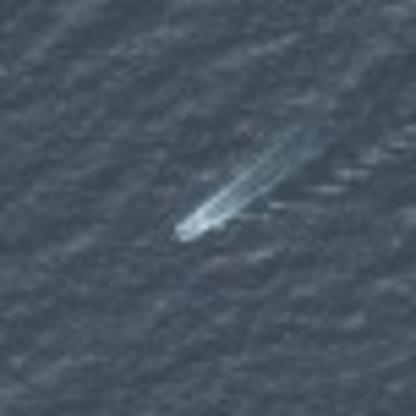ship: (166, 205, 210, 247)
